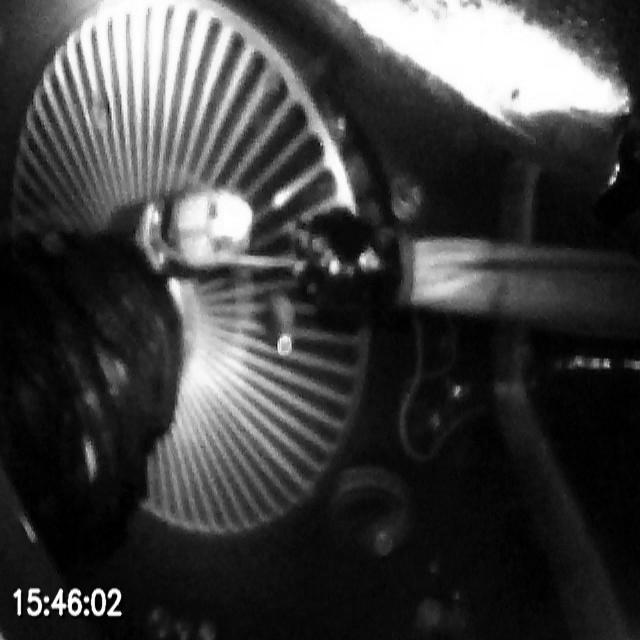head: (138, 190, 255, 270)
